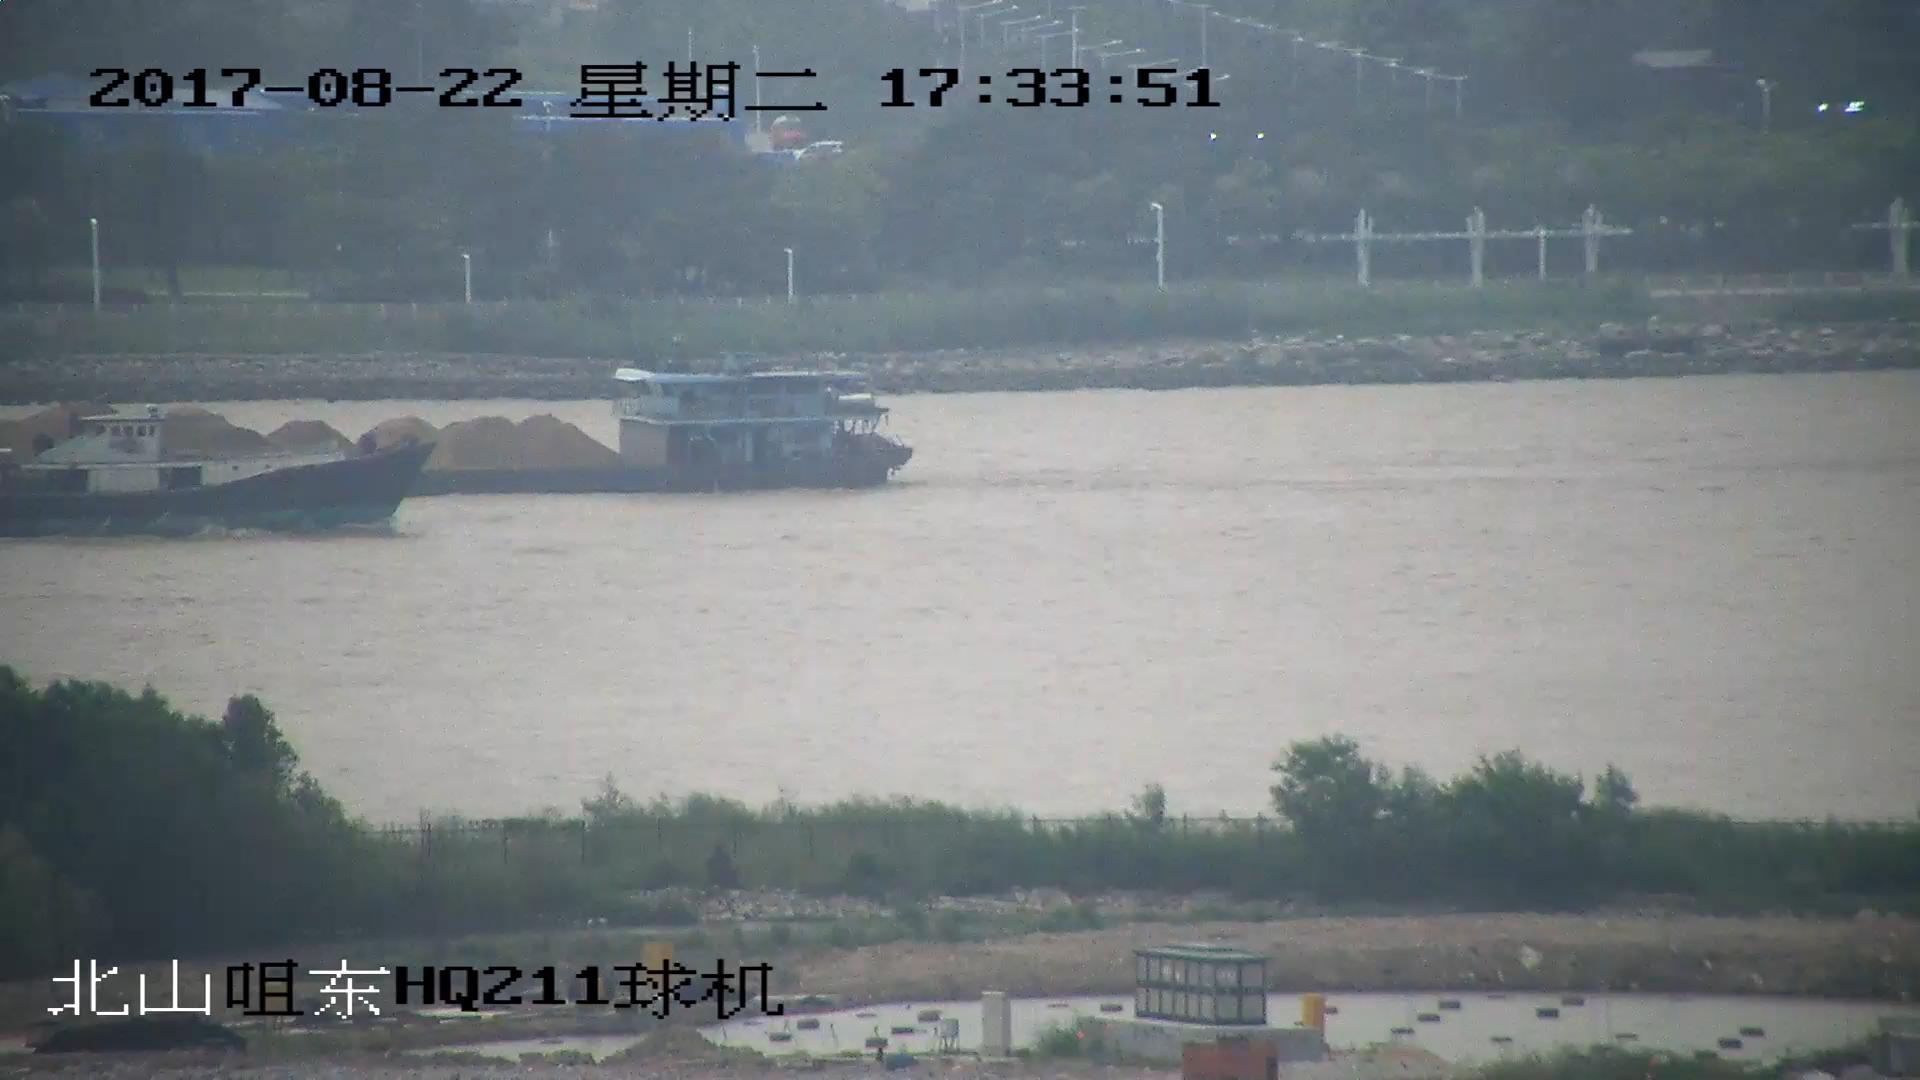Ship: (3, 363, 920, 496), (3, 415, 434, 538)
